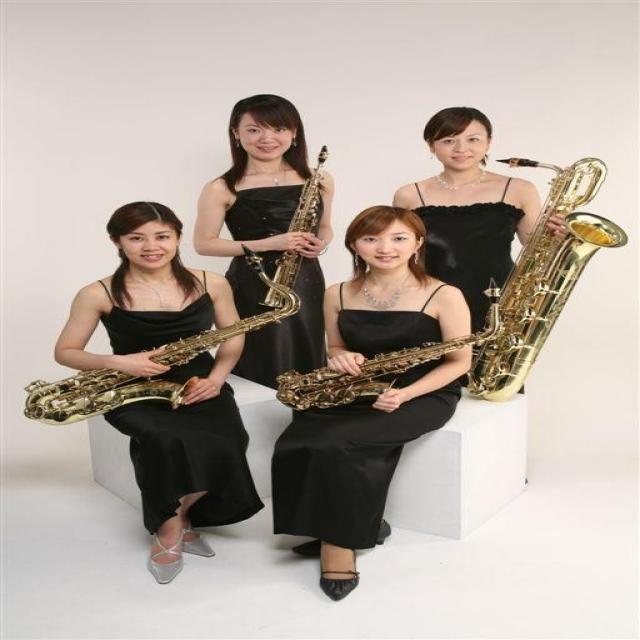saxophone: (14, 238, 304, 432), (457, 143, 635, 399), (274, 276, 508, 416)
